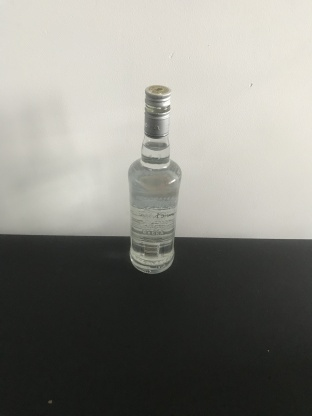nakretka: (142, 83, 172, 139)
